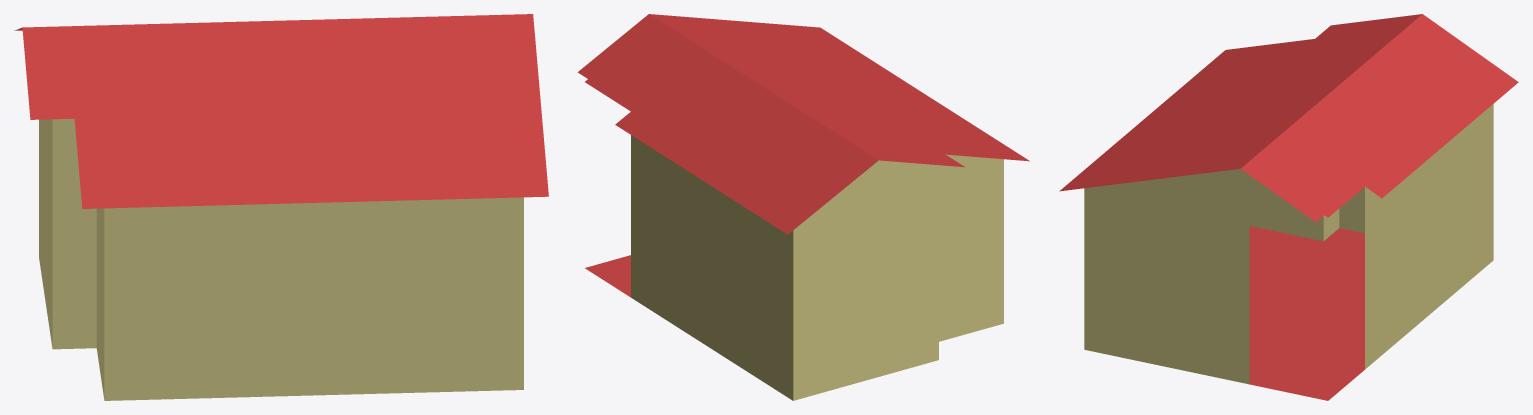
The picture shows the model from 3 angles, left to right: view 1: azimuth 30°, elevation 25°; view 2: azimuth 150°, elevation 25°; view 3: azimuth 270°, elevation 25°; orthographic projection. The views are drawn at different scales.
Size of the model in its own units: 18.34 by 18.23 by 9.74.
